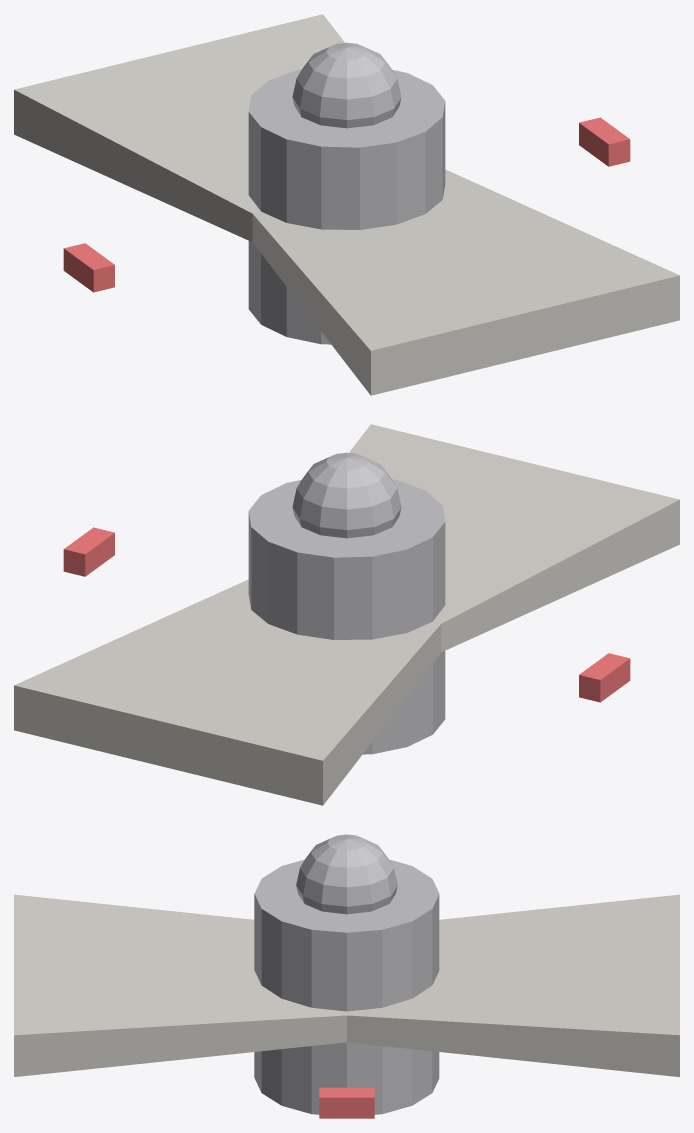
The model's file is propeller.fbx.
The picture shows the model from 3 angles, top to bottom: view 1: azimuth 30°, elevation 25°; view 2: azimuth 150°, elevation 25°; view 3: azimuth 270°, elevation 25°; orthographic projection. The views are drawn at different scales.
Parts seen in each view (by area): view 1: PR_Blade0, PR_Blade1, PR_Hub, PR_Dome, PR_Tip0, PR_Tip1; view 2: PR_Blade1, PR_Blade0, PR_Hub, PR_Dome, PR_Tip0, PR_Tip1; view 3: PR_Blade1, PR_Blade0, PR_Hub, PR_Dome, PR_Tip0.
Boxes of the visible parts, bbox=[...] form: PR_Blade0: bbox=[252, 169, 679, 395]; PR_Blade1: bbox=[14, 14, 559, 349]; PR_Hub: bbox=[248, 69, 445, 344]; PR_Dome: bbox=[292, 42, 401, 128]; PR_Tip0: bbox=[579, 117, 630, 166]; PR_Tip1: bbox=[63, 243, 114, 292]; PR_Blade1: bbox=[14, 579, 441, 805]; PR_Blade0: bbox=[134, 424, 679, 759]; PR_Hub: bbox=[248, 479, 445, 754]; PR_Dome: bbox=[292, 452, 401, 538]; PR_Tip0: bbox=[63, 527, 114, 576]; PR_Tip1: bbox=[579, 653, 630, 702]; PR_Blade1: bbox=[347, 894, 679, 1076]; PR_Blade0: bbox=[14, 894, 346, 1076]; PR_Hub: bbox=[254, 859, 439, 1114]; PR_Dome: bbox=[296, 834, 397, 914]; PR_Tip0: bbox=[319, 1087, 374, 1118].
Bounding box in the file's own units: 62.5 × 28.5 × 72.
